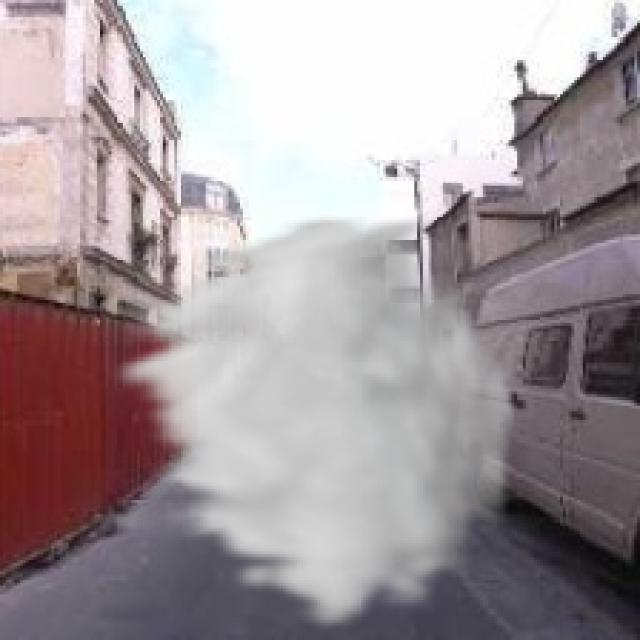smoke: (100, 212, 526, 634)
